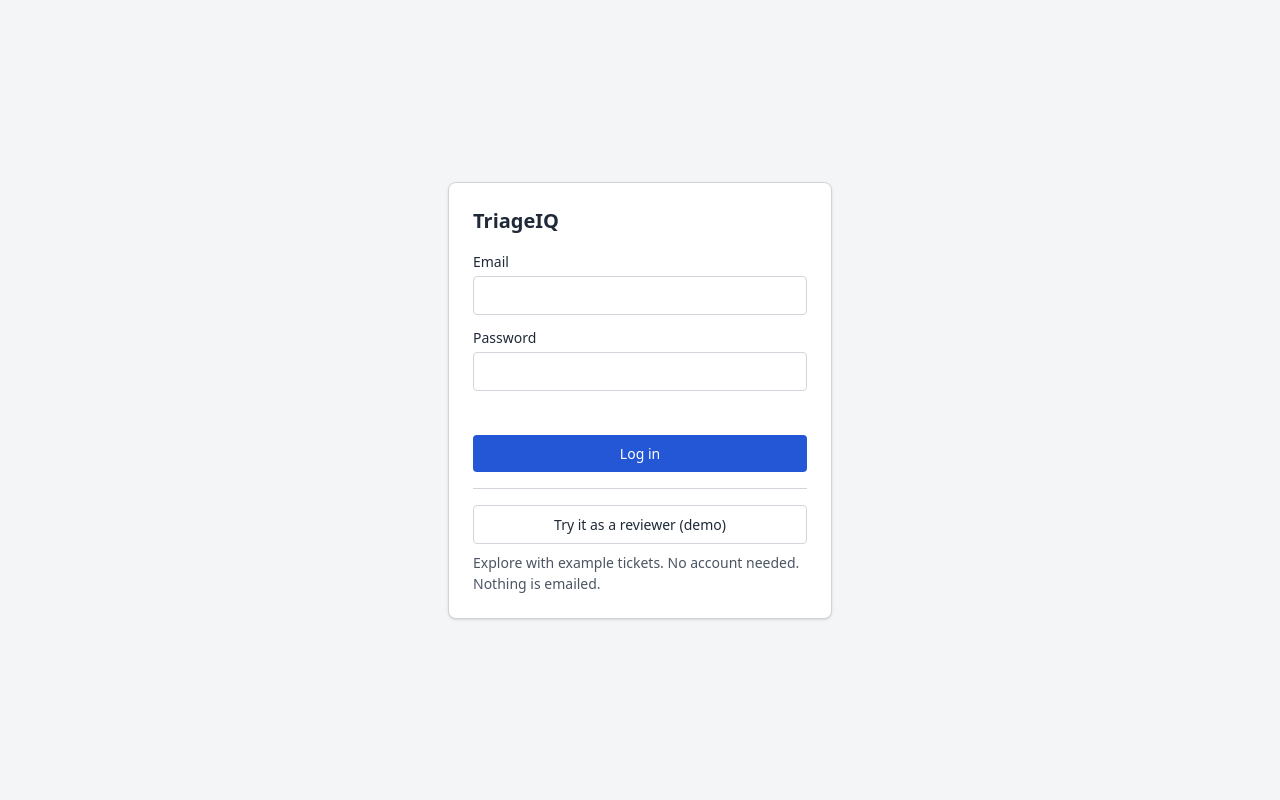
Test: the demo button on the login page › one click logs in as the demo visitor (POST /api/auth/demo-login, no body) and opens the queue with the banner
Click the button "Try it as a reviewer (demo)" at (640, 524), box [473,504,807,544]
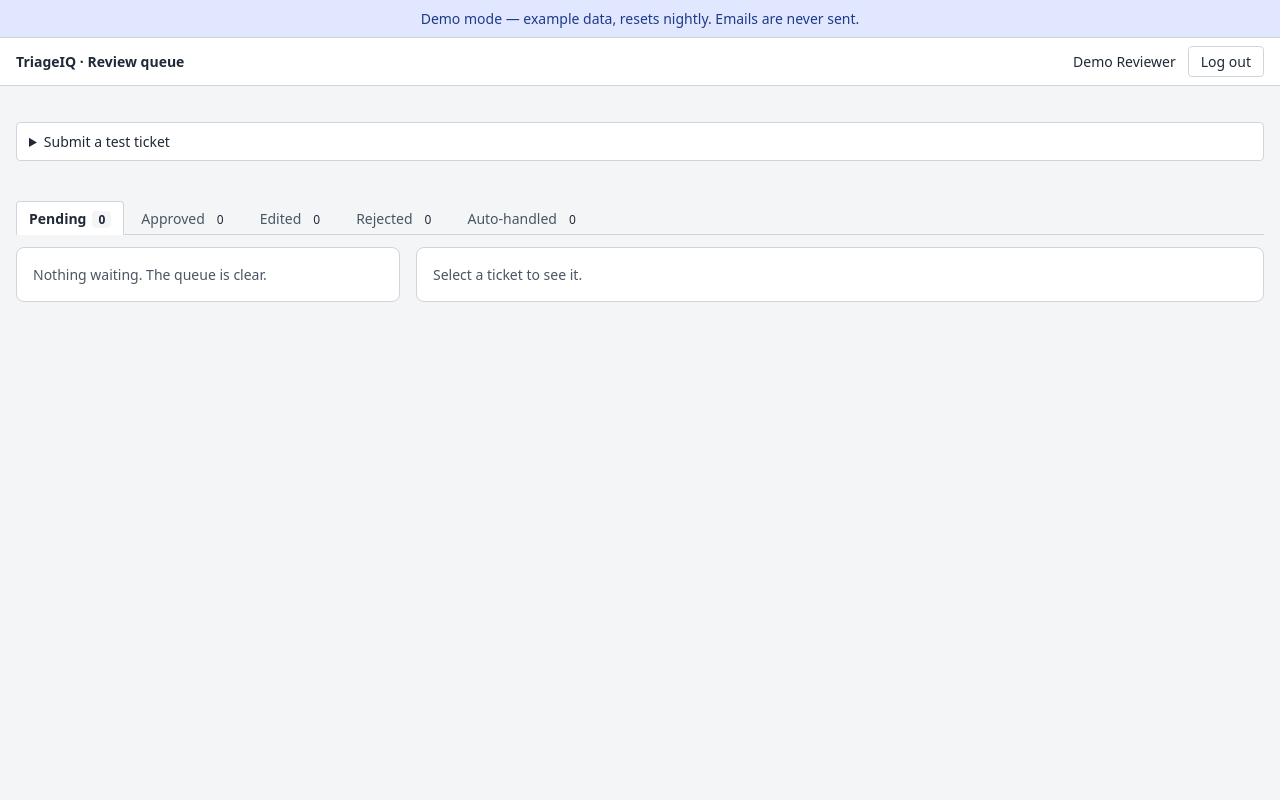
Expected: the text "TriageIQ · Review queue" is shown, [16,51,184,72]
Expected: the text "Demo mode — example data, resets nightly. Emails are never sent." is shown, [0,0,1279,38]
Expected: the text "Demo Reviewer" is shown, [1073,51,1176,72]
